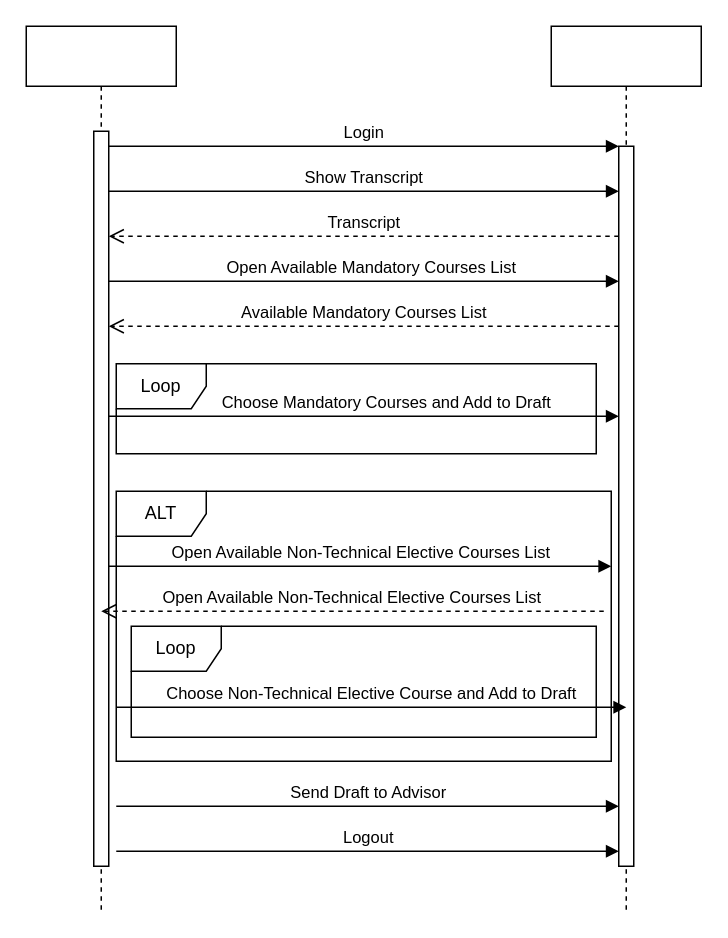
This 728x938 diagram has some shape labels left out. Each missing label, with the box of its shape:
:Student: (25, 25, 176, 911)
:System: (550, 25, 701, 911)
